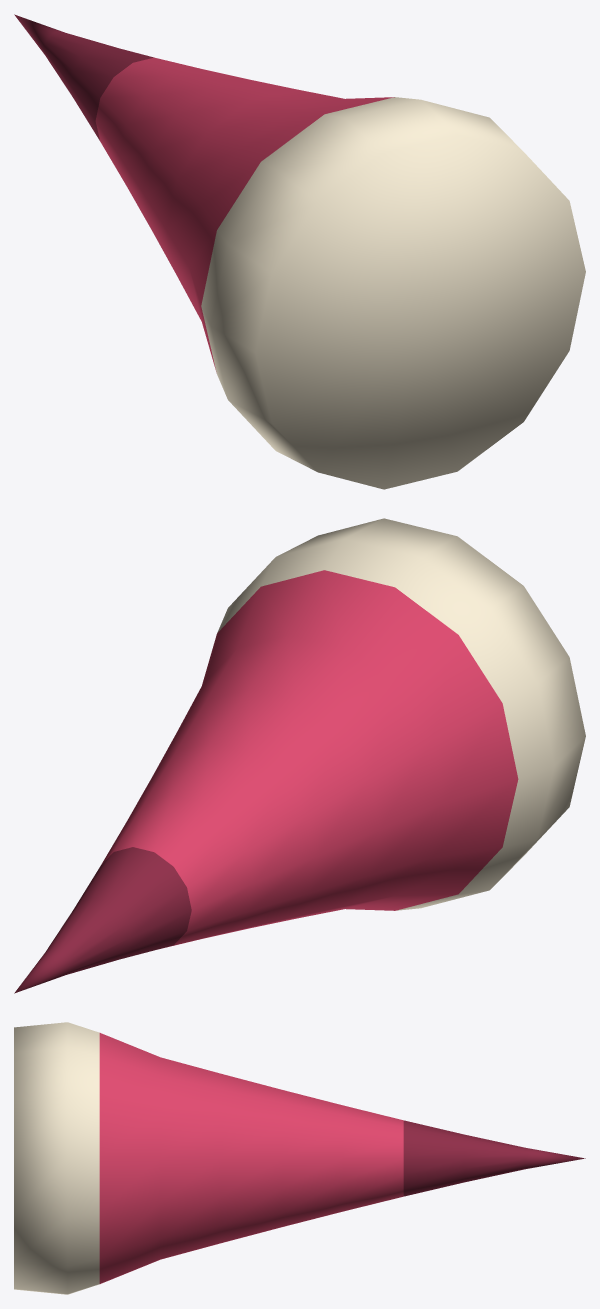
The model's file is part_spike.glb.
The picture shows the model from 3 angles, top to bottom: view 1: azimuth 30°, elevation 25°; view 2: azimuth 150°, elevation 25°; view 3: azimuth 270°, elevation 25°; orthographic projection. The views are drawn at different scales.
Parts seen in each view (by area): view 1: Spike; view 2: Spike; view 3: Spike.
Part boxes in pixels (x1,y1,x2,y2): Spike: (14, 14, 585, 489); Spike: (14, 518, 585, 993); Spike: (14, 1022, 585, 1294).
Size of the model in its own units: 0.156 by 0.1521 by 0.32.
